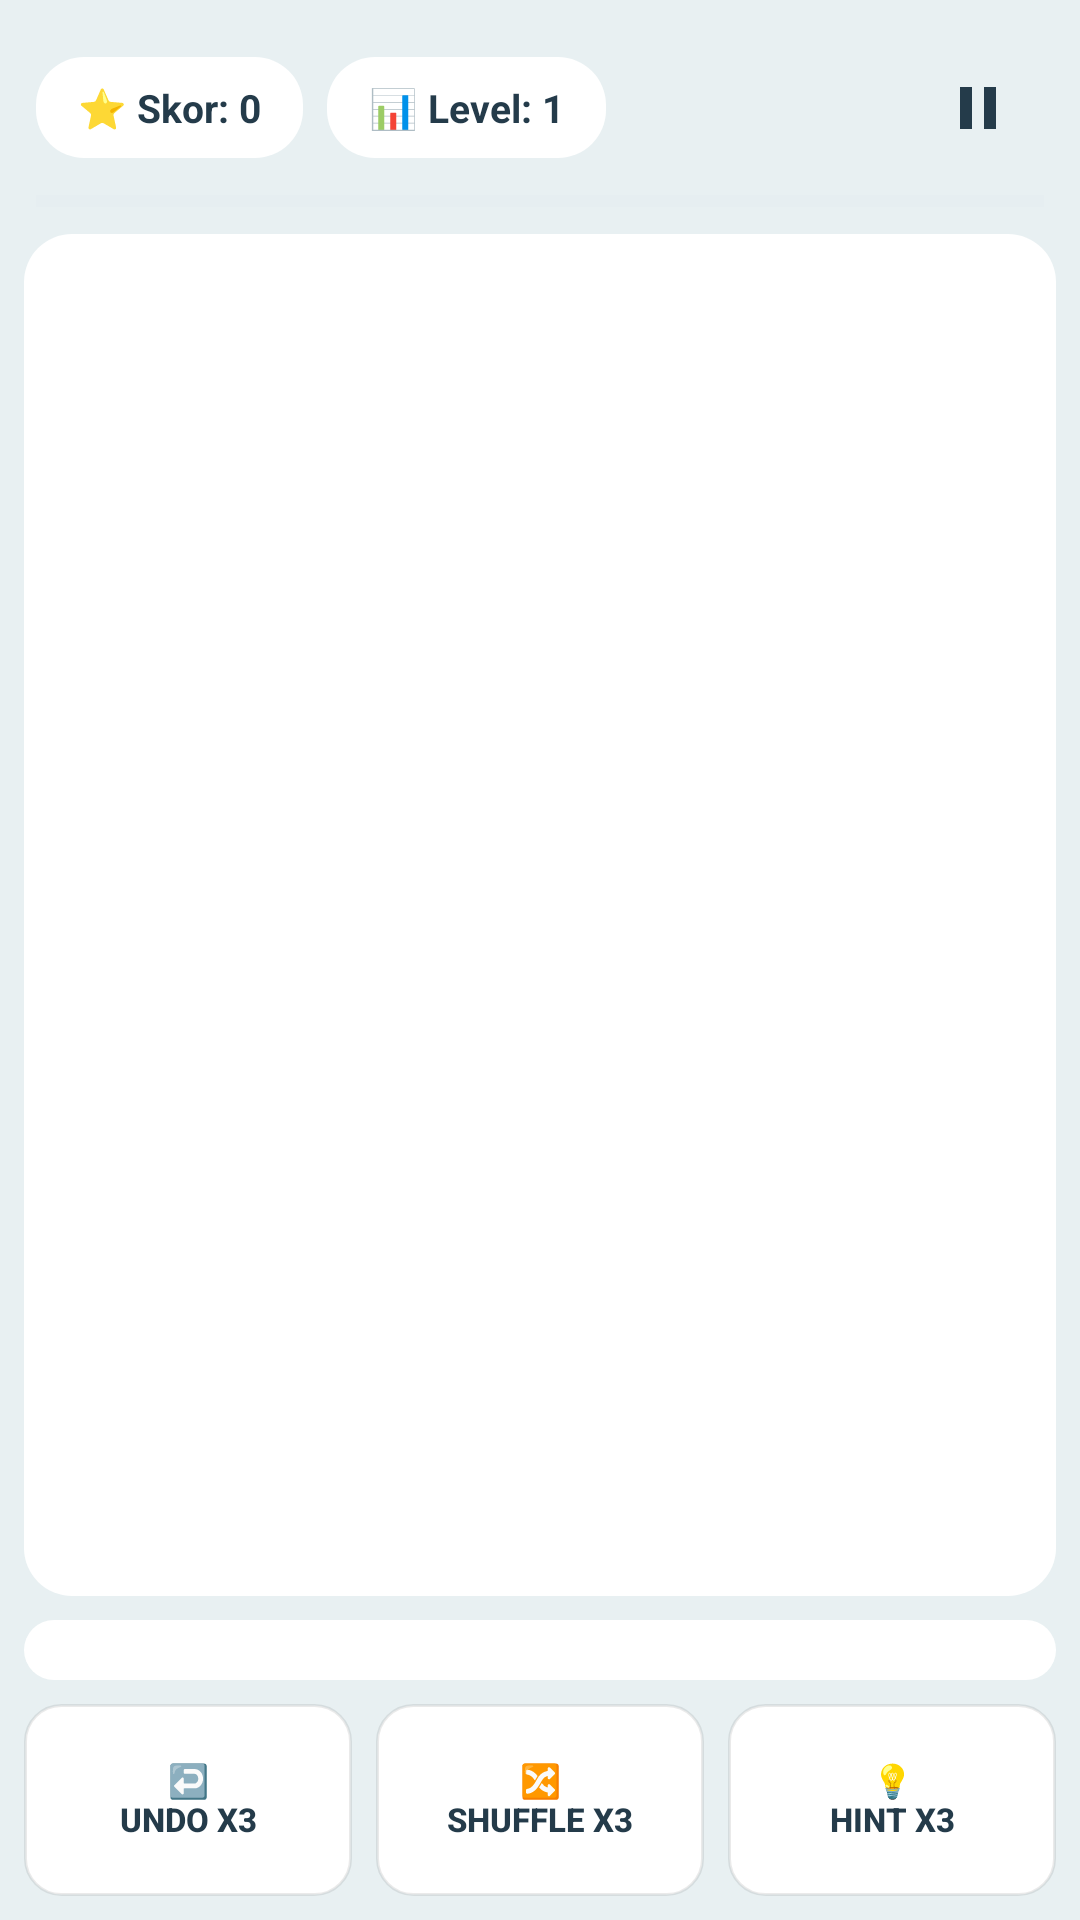

Screen size 1080 × 1920. Icon name, then its center in pixels as point (x, y):
Pause: point (978, 108)
